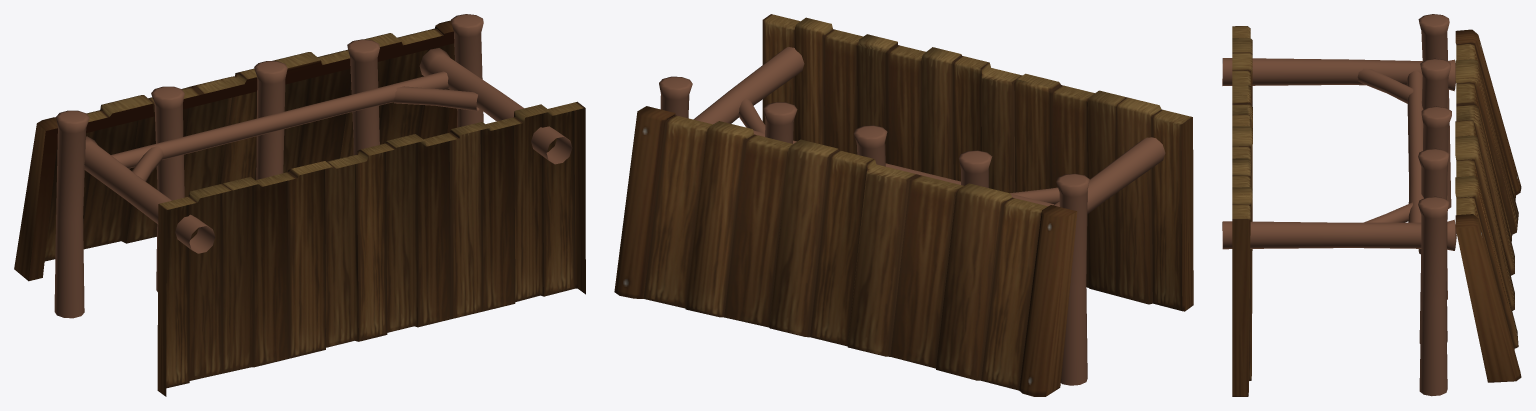
The model's file is Entrance.FBX.
3 views of the same model, side by side, from view 1: azimuth 30°, elevation 25°; view 2: azimuth 150°, elevation 25°; view 3: azimuth 270°, elevation 25° (orthographic). The views are drawn at different scales.
Parts seen in each view (by area): view 1: Ground_Entrance, Entrance, Entrance_roof; view 2: Entrance_roof, Ground_Entrance, Entrance; view 3: Entrance, Entrance_roof, Ground_Entrance.
Part boxes in pixels (<box>): Ground_Entrance: <box>157,101,585,396</box>; Entrance: <box>54,14,572,318</box>; Entrance_roof: <box>14,20,457,281</box>; Entrance_roof: <box>614,106,1077,396</box>; Ground_Entrance: <box>762,14,1193,311</box>; Entrance: <box>659,47,1165,385</box>; Entrance: <box>1222,14,1456,396</box>; Entrance_roof: <box>1455,29,1521,382</box>; Ground_Entrance: <box>1232,26,1252,396</box>.
Size of the model in its own units: 6.21 by 2.78 by 3.97.
